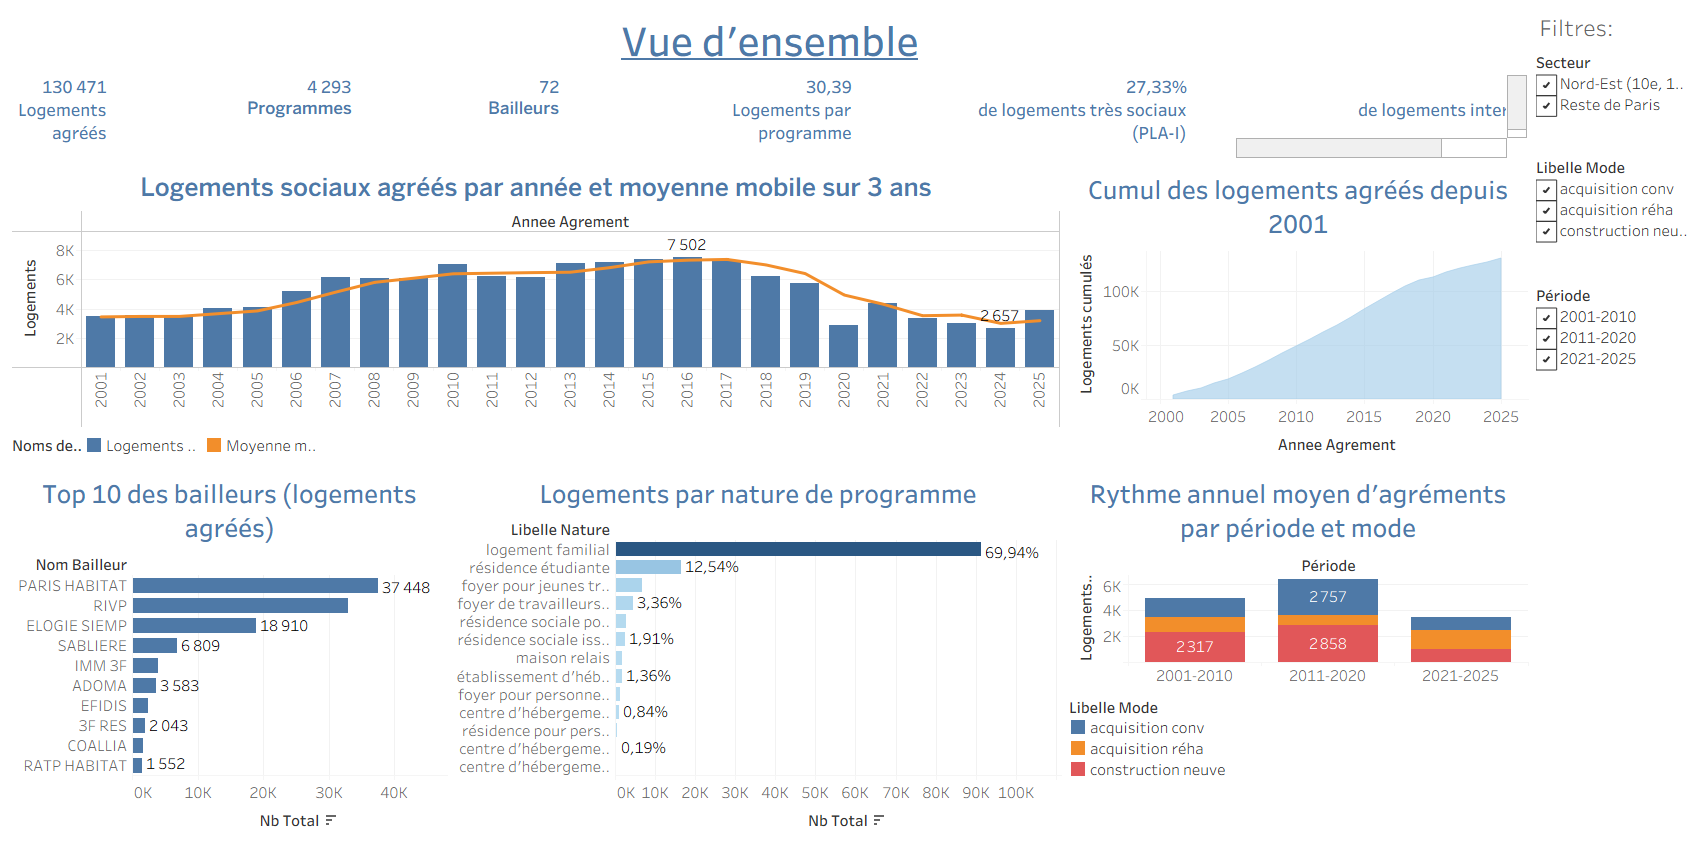

The dashboard page shown, as its layout file describes it:
{"tool":"tableau","page":{"name":"Vue d'ensemble","canvas":[1700,850],"ordinal":2},"visuals":[{"type":"title","box":[8,8,1524,63]},{"type":"text","box":[1532,8,160,39]},{"type":"filter","title":"Logements par année","param":"[federated.0s6su5l1ucoj3y10dtg95040we4o].[none:Calculation_1774954314084354:nk]","box":[1532,47,160,105]},{"type":"worksheet","title":"KPI logements","mark":"Automatic","box":[8,71,224,90.9]},{"type":"worksheet","title":"KPI programmes","mark":"Automatic","box":[232,71,248,90.9]},{"type":"worksheet","title":"KPI bailleurs","mark":"Automatic","box":[480,71,232,90.9]},{"type":"worksheet","title":"KPI taille moyenne","mark":"Automatic","box":[712,71,221,90.9]},{"type":"worksheet","title":"KPI part PLA-I","mark":"Automatic","box":[933,71,299.5,90.9]},{"type":"worksheet","title":"KPI part PLS","mark":"Automatic","box":[1232.5,71,299.5,90.9]},{"type":"filter","title":"Logements par année","param":"[federated.0s6su5l1ucoj3y10dtg95040we4o].[none:libelle_mode:nk]","box":[1532,152,160,128]},{"type":"worksheet","title":"Logements par année","mark":"Bar","rows":["nb_total","nb_total"],"cols":["annee_agrement"],"box":[8,161.9,1056.1,269.5]},{"type":"worksheet","title":"Cumul","mark":"Area","rows":["nb_total"],"cols":["annee_agrement"],"box":[1064.1,161.9,467.9,304]},{"type":"filter","title":"Logements par année","param":"[federated.0s6su5l1ucoj3y10dtg95040we4o].[none:Calculation_1774954313900032:nk]","box":[1532,280,160,128]},{"type":"legend","title":"Logements par année","param":"[federated.0s6su5l1ucoj3y10dtg95040we4o].[:Measure Names]","box":[8,431.4,1056.1,34.5]},{"type":"worksheet","title":"Top 10 bailleurs","mark":"Bar","rows":["nom_bailleur"],"cols":["nb_total"],"box":[8,465.9,442.5,376.1]},{"type":"worksheet","title":"Nature des programmes","mark":"Bar","rows":["libelle_nature"],"cols":["nb_total"],"box":[450.5,465.9,613.6,376.1]},{"type":"worksheet","title":"Période et mode","mark":"Bar","rows":["Calculation_1774954336432138"],"cols":["Calculation_1774954313900032"],"box":[1064.1,465.9,467.9,225.2]},{"type":"legend","title":"Période et mode","param":"[federated.0s6su5l1ucoj3y10dtg95040we4o].[none:libelle_mode:nk]","box":[1064.1,691.1,467.9,150.9]}]}

Visuals, with their boxes in screenshot pixels (x1, y1, x2, y2), scaled from the page's 1700x850 canvas onto the 1700x850 screenshot:
title: [x1=8, y1=8, x2=1532, y2=71]
text: [x1=1532, y1=8, x2=1692, y2=47]
"Logements par année" filter: [x1=1532, y1=47, x2=1692, y2=152]
"KPI logements" worksheet: [x1=8, y1=71, x2=232, y2=162]
"KPI programmes" worksheet: [x1=232, y1=71, x2=480, y2=162]
"KPI bailleurs" worksheet: [x1=480, y1=71, x2=712, y2=162]
"KPI taille moyenne" worksheet: [x1=712, y1=71, x2=933, y2=162]
"KPI part PLA-I" worksheet: [x1=933, y1=71, x2=1232, y2=162]
"KPI part PLS" worksheet: [x1=1232, y1=71, x2=1532, y2=162]
"Logements par année" filter: [x1=1532, y1=152, x2=1692, y2=280]
"Logements par année" worksheet (Bar marks): [x1=8, y1=162, x2=1064, y2=431]
"Cumul" worksheet (Area marks): [x1=1064, y1=162, x2=1532, y2=466]
"Logements par année" filter: [x1=1532, y1=280, x2=1692, y2=408]
"Logements par année" legend: [x1=8, y1=431, x2=1064, y2=466]
"Top 10 bailleurs" worksheet (Bar marks): [x1=8, y1=466, x2=450, y2=842]
"Nature des programmes" worksheet (Bar marks): [x1=450, y1=466, x2=1064, y2=842]
"Période et mode" worksheet (Bar marks): [x1=1064, y1=466, x2=1532, y2=691]
"Période et mode" legend: [x1=1064, y1=691, x2=1532, y2=842]
